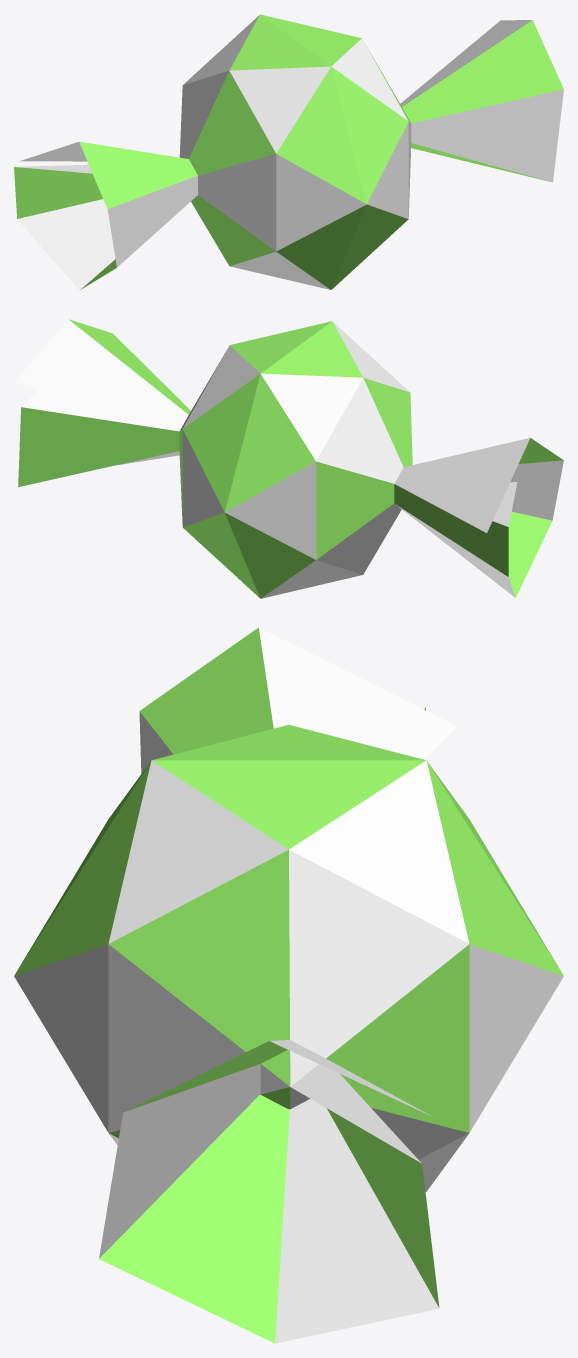
File: candy_green.fbx
3 renders of one model, top to bottom at view 1: azimuth 30°, elevation 25°; view 2: azimuth 150°, elevation 25°; view 3: azimuth 270°, elevation 25°, orthographic. The views are drawn at different scales.
Parts seen in each view (by area): view 1: candy_green; view 2: candy_green; view 3: candy_green.
Boxes of the visible parts, box(x1,y1,x2,y2) form: candy_green: box(14, 14, 563, 290); candy_green: box(14, 319, 563, 598); candy_green: box(14, 627, 563, 1343).
Size of the model in its own units: 6.54 by 2.86 by 3.3.
